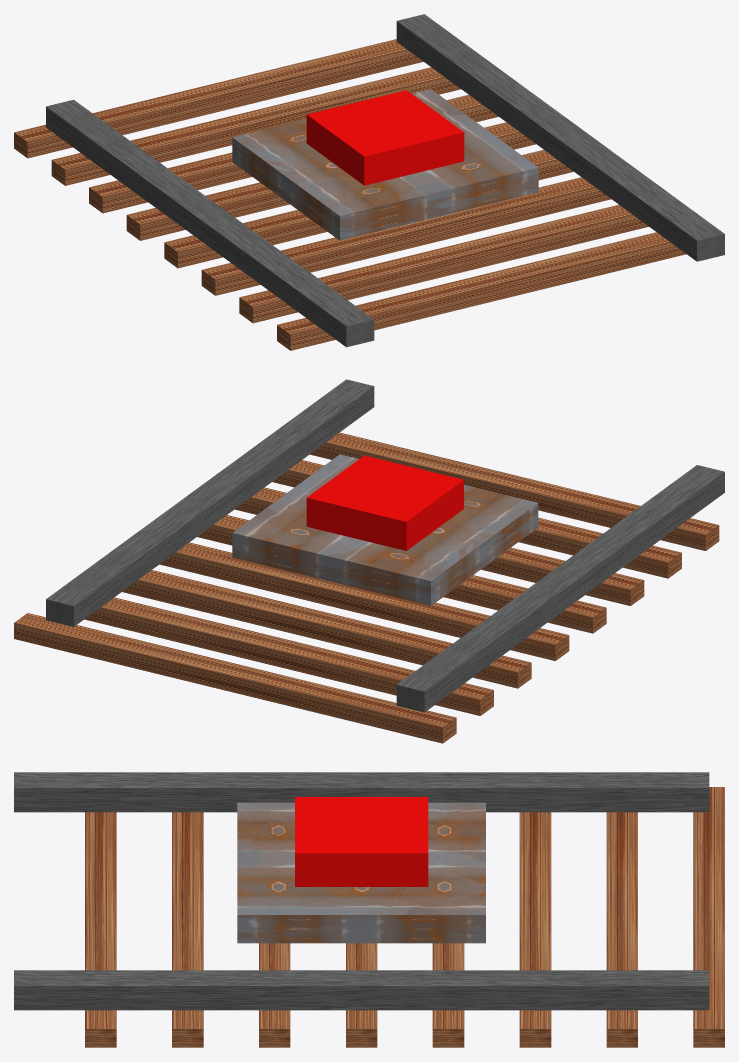
File: PayloadCheckpoint.glb
3 renders of one model, top to bottom at view 1: azimuth 30°, elevation 25°; view 2: azimuth 150°, elevation 25°; view 3: azimuth 270°, elevation 25°, orthographic. The views are drawn at different scales.
Visible parts, largest first — view 1: MeshInstance3D, MeshInstance3D3, MeshInstance3D4, MeshInstance3D12, MeshInstance3D2, MeshInstance3D9, MeshInstance3D11, MeshInstance3D10, MeshInstance3D8, MeshInstance3D5, MeshInstance3D7, MeshInstance3D6; view 2: MeshInstance3D, MeshInstance3D4, MeshInstance3D3, MeshInstance3D9, MeshInstance3D8, MeshInstance3D7, MeshInstance3D2, MeshInstance3D6, MeshInstance3D12, MeshInstance3D5, MeshInstance3D11, MeshInstance3D10; view 3: MeshInstance3D3, MeshInstance3D4, MeshInstance3D, MeshInstance3D2, MeshInstance3D9, MeshInstance3D7, MeshInstance3D11, MeshInstance3D12, MeshInstance3D8, MeshInstance3D6, MeshInstance3D5, MeshInstance3D10.
Boxes of the visible parts, x1,y1,x2,y2 form: MeshInstance3D: [232, 89, 538, 240]; MeshInstance3D3: [396, 14, 724, 261]; MeshInstance3D4: [46, 99, 374, 347]; MeshInstance3D12: [277, 232, 686, 350]; MeshInstance3D2: [306, 90, 464, 185]; MeshInstance3D9: [14, 39, 423, 158]; MeshInstance3D11: [239, 205, 648, 323]; MeshInstance3D10: [201, 177, 611, 295]; MeshInstance3D8: [51, 67, 460, 185]; MeshInstance3D5: [164, 149, 573, 268]; MeshInstance3D7: [89, 94, 498, 213]; MeshInstance3D6: [126, 122, 535, 240]; MeshInstance3D: [232, 454, 538, 605]; MeshInstance3D4: [396, 465, 724, 712]; MeshInstance3D3: [46, 379, 374, 626]; MeshInstance3D9: [14, 613, 456, 743]; MeshInstance3D8: [84, 597, 493, 715]; MeshInstance3D7: [122, 570, 531, 688]; MeshInstance3D2: [306, 455, 463, 550]; MeshInstance3D6: [159, 542, 569, 660]; MeshInstance3D12: [310, 432, 719, 550]; MeshInstance3D5: [197, 515, 606, 633]; MeshInstance3D11: [272, 460, 681, 578]; MeshInstance3D10: [234, 487, 644, 605]; MeshInstance3D3: [14, 970, 709, 1010]; MeshInstance3D4: [14, 772, 709, 812]; MeshInstance3D: [237, 802, 485, 943]; MeshInstance3D2: [295, 797, 428, 886]; MeshInstance3D9: [693, 787, 724, 1047]; MeshInstance3D7: [519, 812, 551, 1047]; MeshInstance3D11: [172, 812, 203, 1047]; MeshInstance3D12: [85, 812, 116, 1047]; MeshInstance3D8: [606, 812, 637, 1047]; MeshInstance3D6: [432, 943, 464, 1047]; MeshInstance3D5: [346, 943, 377, 1047]; MeshInstance3D10: [259, 943, 290, 1047].
Size of the model in its own units: 1.65 by 0.3218 by 2.05.
Materials: 4 (3 with a texture image).
